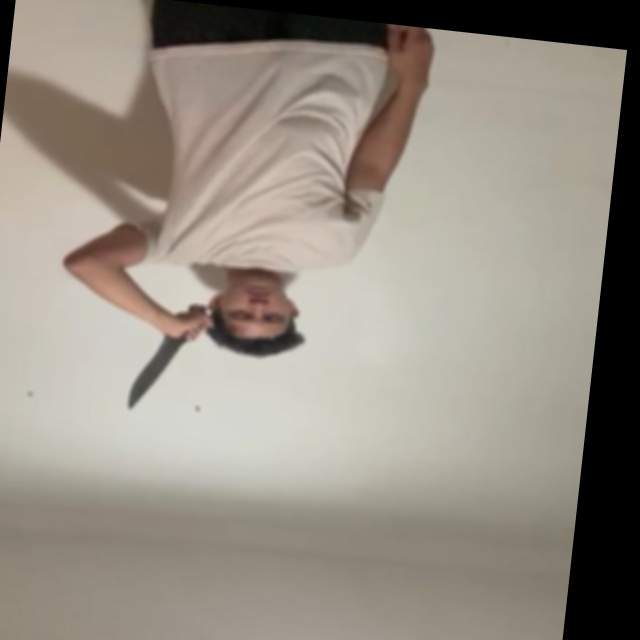Sharp-Object: (122, 334, 182, 414)
